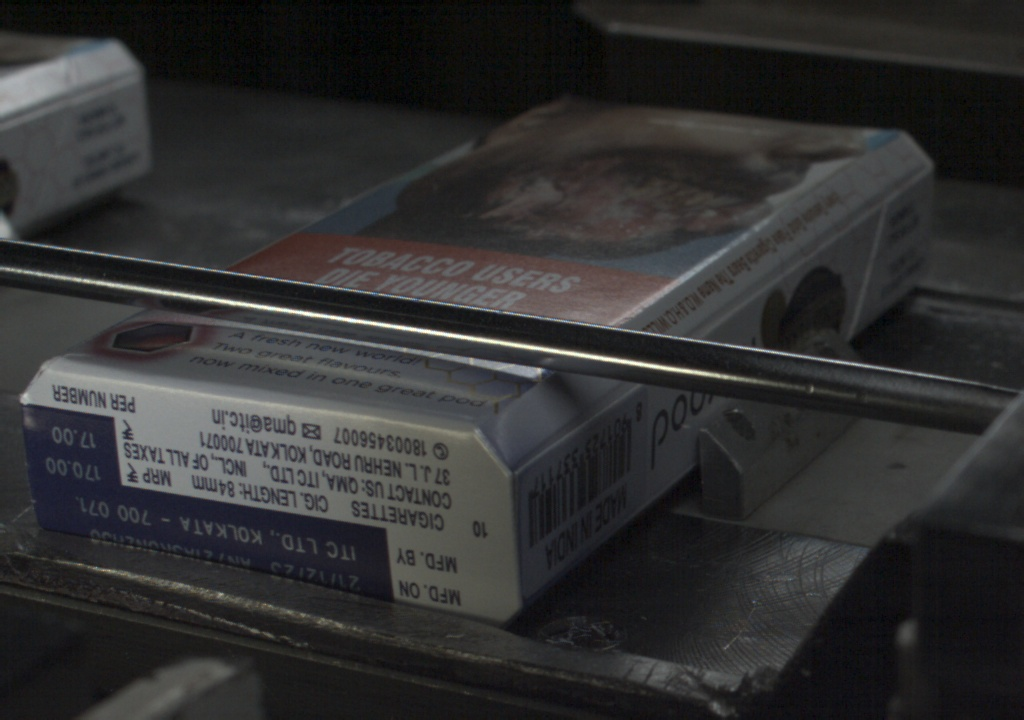g_bottom: (21, 366, 519, 621)
g_label: (33, 486, 390, 598)
g_lmiter: (695, 264, 789, 337)
g_miter: (878, 161, 935, 202)
ng_lmiter: (789, 203, 876, 265), (511, 424, 576, 474), (572, 384, 628, 426)
price: (26, 413, 120, 484)
